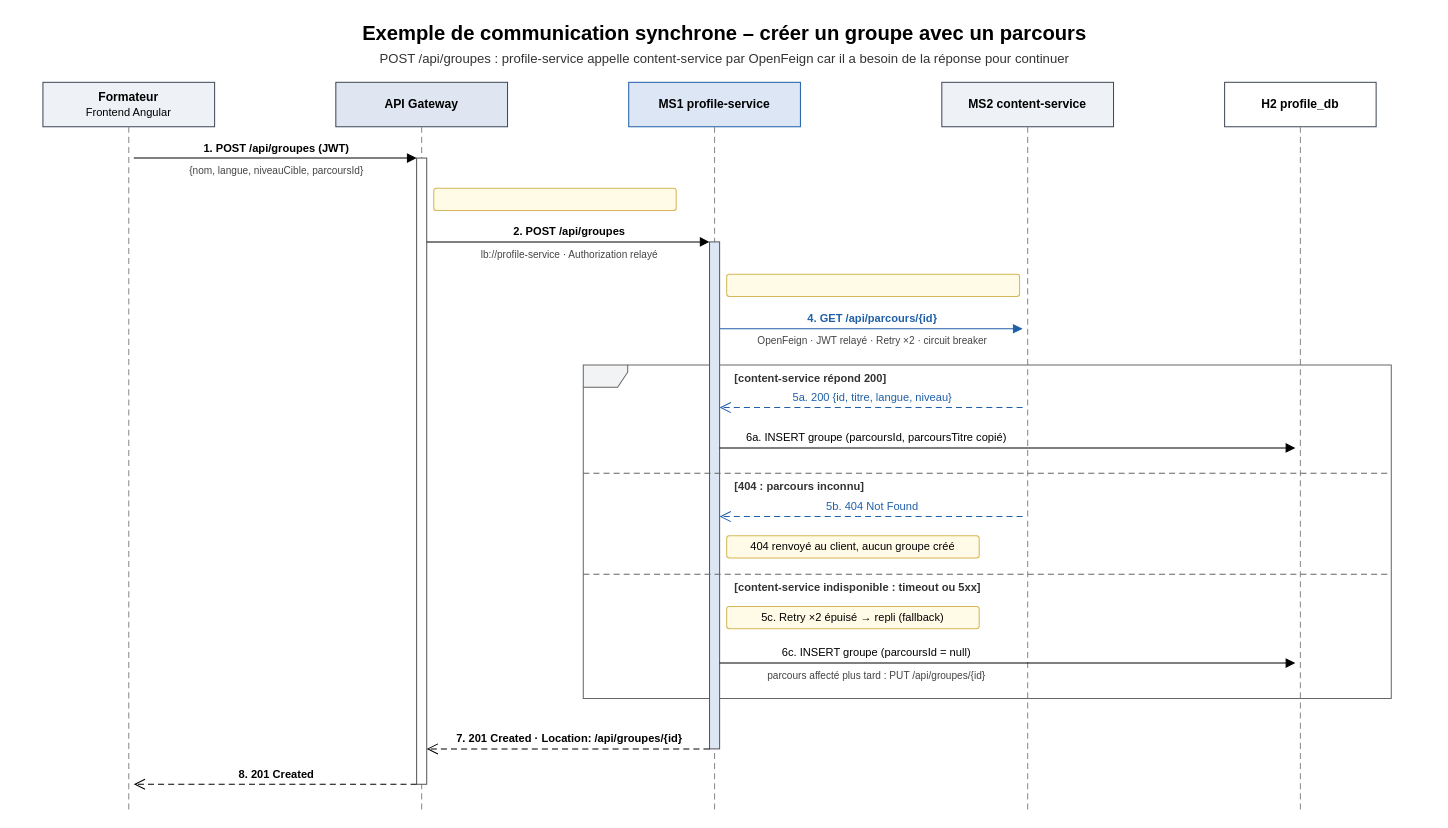
This 1448x828 diagram has some shape labels left out. Each missing label, with the box of its shape:
3. rôle FORMATEUR ? corps valide ? sinon 403 / 400: (726, 273, 1020, 296)
alt: (582, 364, 1391, 698)
valide le JWT (signature, expiration): (433, 187, 676, 211)
